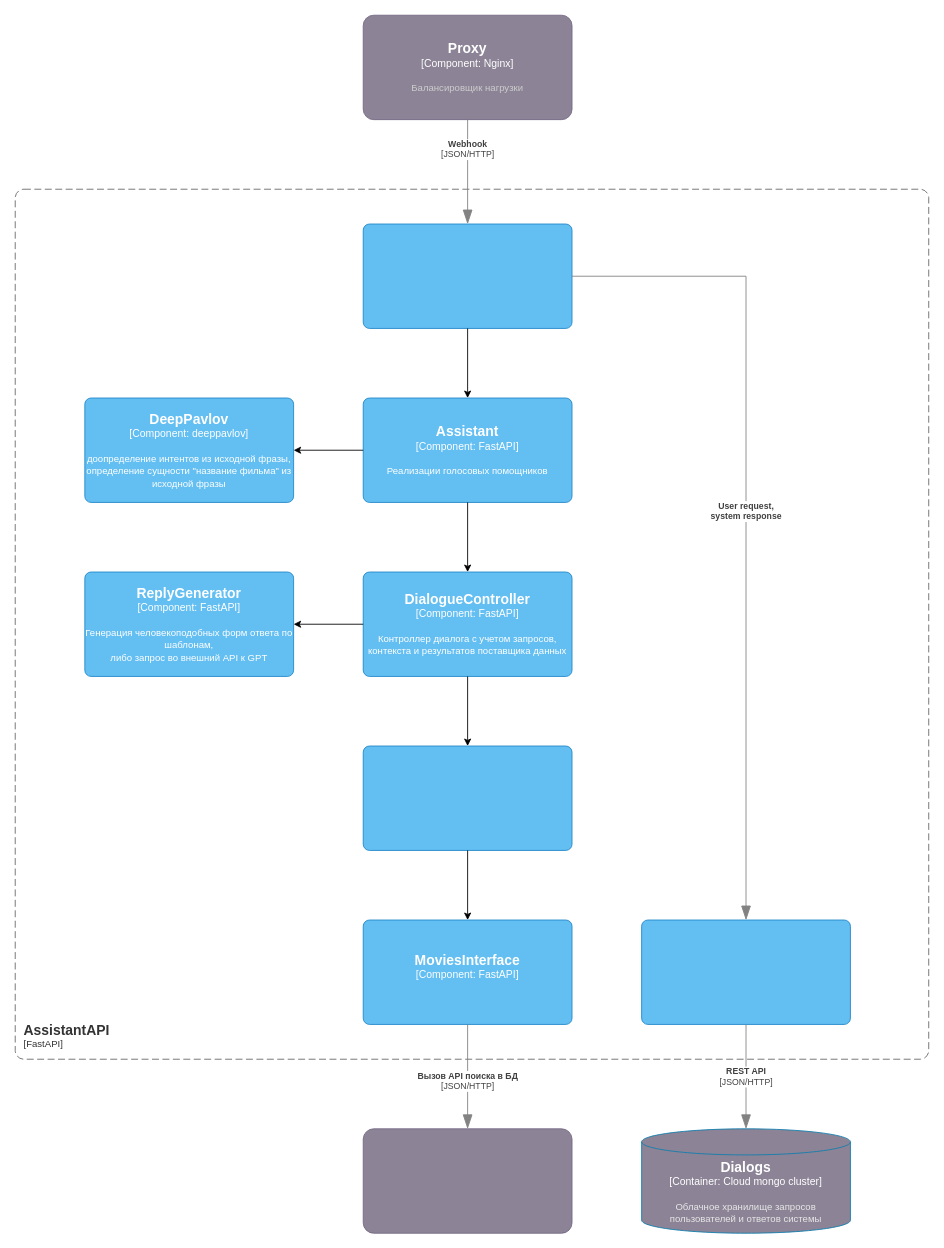
This 944x1248 diagram has some shape labels left out. Each missing label, with the centre of its shape:
API [Component: FastAPI] Webhook и просмотр логов: [467,275]
DialogKeeper [Component: FastAPI] Сохранение и просмотр логов: [745,971]
MoviesAPI [Software System] Поиск информации в БД кинотеатра: [467,1180]
ServicesInteractor [Component: FastAPI] Поставщик данных для диалогов: [467,797]
